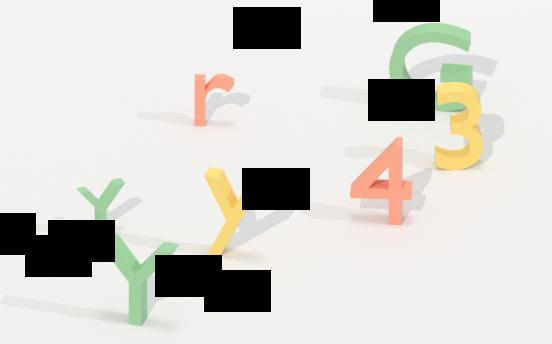3: (428, 77, 488, 174)
G-hoa: (385, 15, 481, 116)
R: (187, 62, 245, 137)
Y: (196, 154, 272, 274)
Y-hoa: (92, 223, 182, 328), (76, 173, 131, 240)
b: (350, 132, 415, 228)
